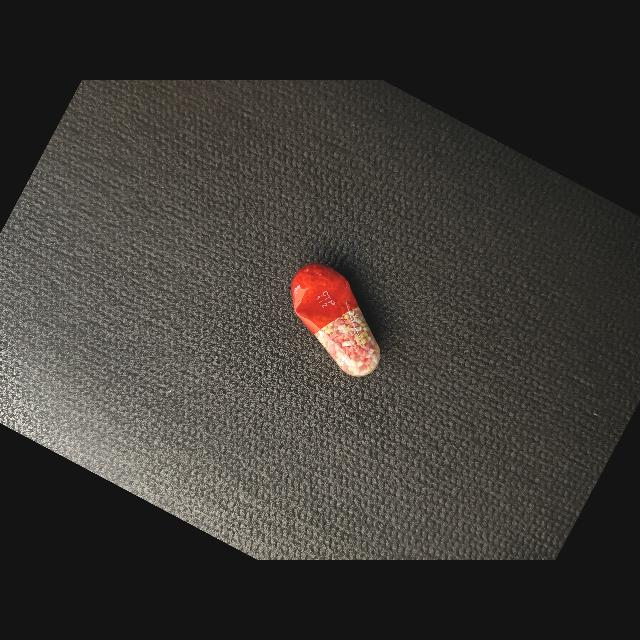Defective Capsule: (291, 264, 380, 377)
